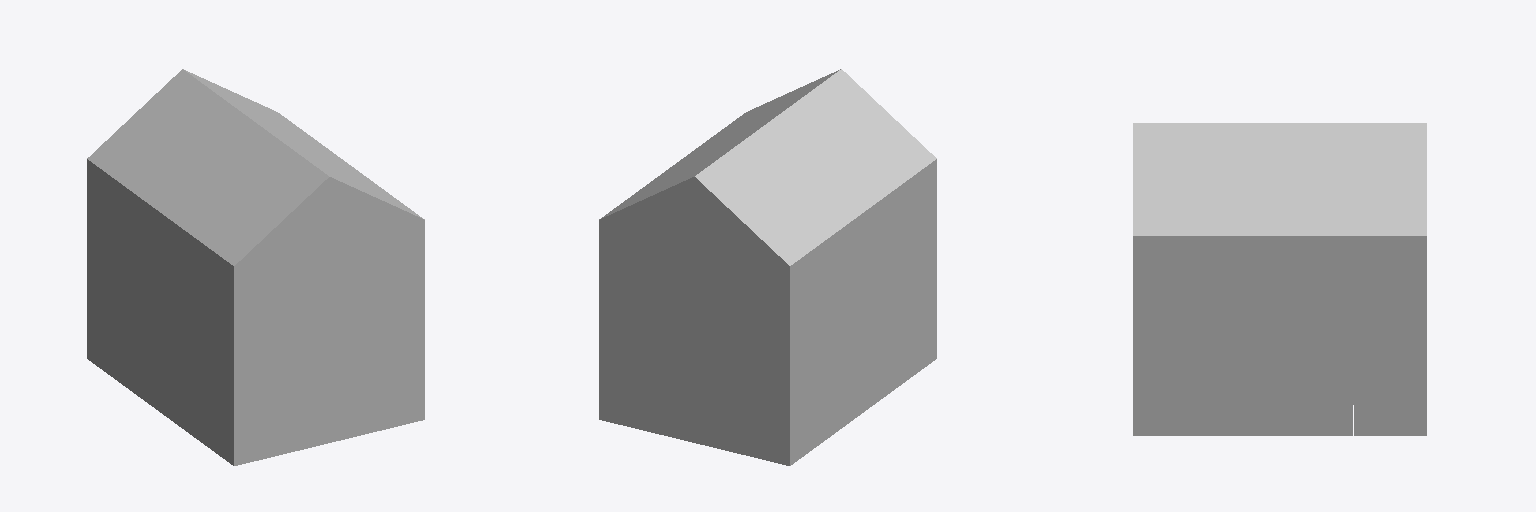
File: house2.obj
The picture shows the model from 3 angles: view 1: azimuth 30°, elevation 25°; view 2: azimuth 150°, elevation 25°; view 3: azimuth 270°, elevation 25°; orthographic projection.
Visible parts, largest first — view 1: Mesh1 Model; view 2: Mesh1 Model; view 3: Mesh1 Model.
Boxes of the visible parts, x1=… form: Mesh1 Model: x1=87, y1=69, x2=424, y2=465; Mesh1 Model: x1=599, y1=69, x2=936, y2=465; Mesh1 Model: x1=1133, y1=123, x2=1426, y2=435.
Size of the model in its own units: 6 by 8 by 8.01.